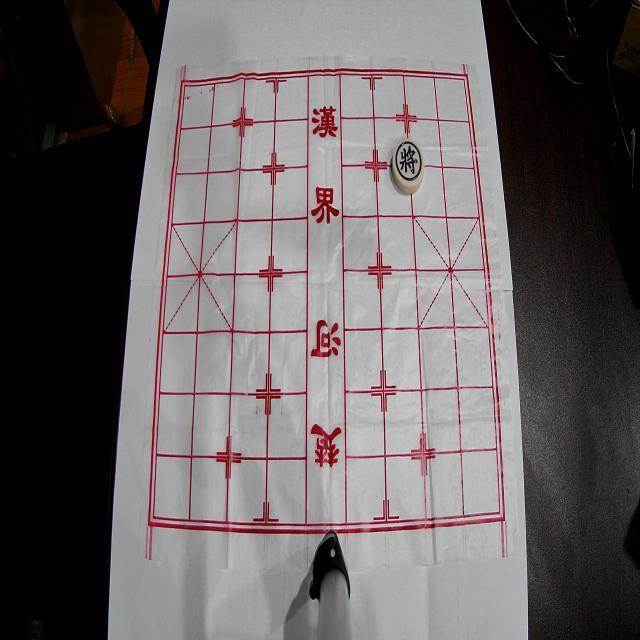black-general: (392, 139, 424, 193)
